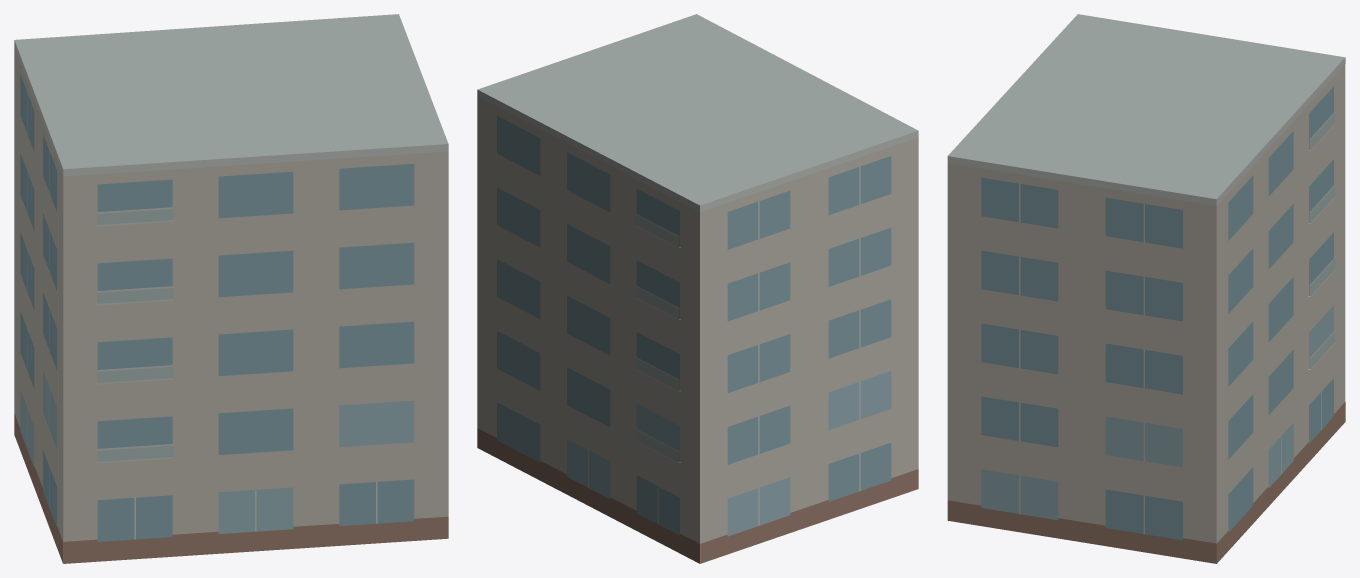
Rendered from survey-upis-32879674.glb.
3 views of the same model, side by side, from view 1: azimuth 30°, elevation 25°; view 2: azimuth 150°, elevation 25°; view 3: azimuth 270°, elevation 25° (orthographic). The views are drawn at different scales.
Parts seen in each view (by area): view 1: survey-upis-32879674.tmp; view 2: survey-upis-32879674.tmp; view 3: survey-upis-32879674.tmp.
Boxes of the visible parts, x1,y1,x2,y2 form: survey-upis-32879674.tmp: [14, 14, 448, 563]; survey-upis-32879674.tmp: [477, 14, 918, 563]; survey-upis-32879674.tmp: [947, 14, 1345, 563].
Size of the model in its own units: 14.28 by 13.1 by 12.96.
